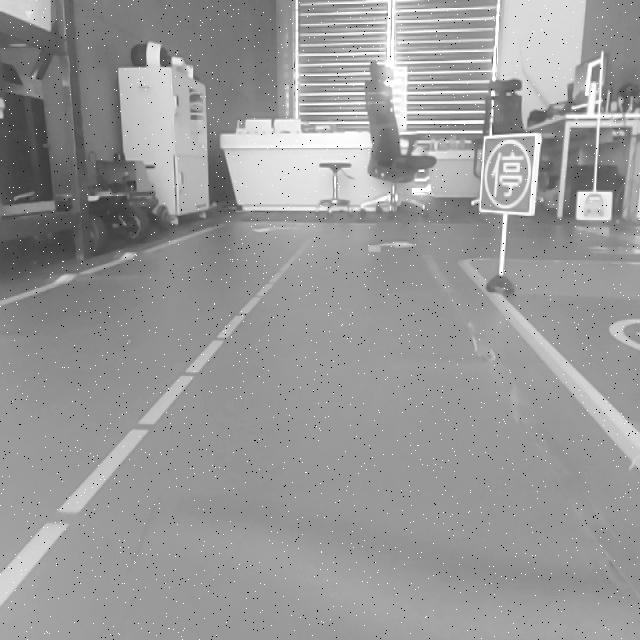left_lane: (1, 236, 316, 607)
right_lane: (465, 263, 640, 467)
